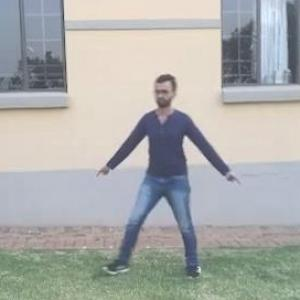land: (105, 75, 239, 261)
